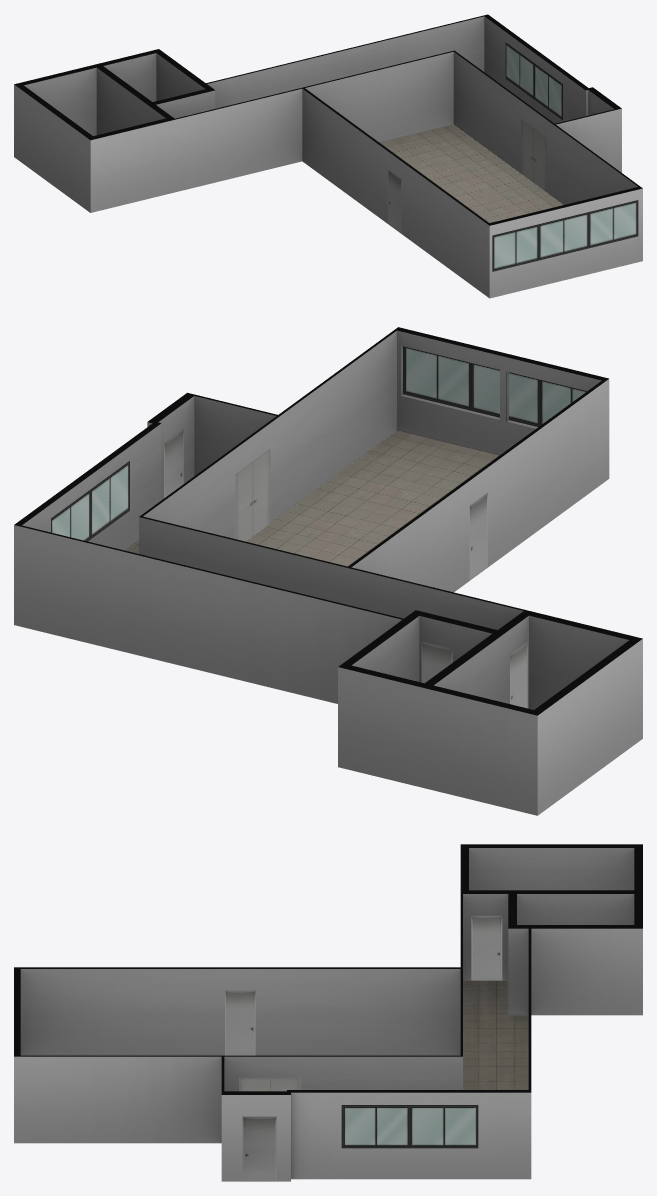
The model's file is Building.glb.
3 renders of one model, top to bottom at view 1: azimuth 30°, elevation 25°; view 2: azimuth 150°, elevation 25°; view 3: azimuth 270°, elevation 25°, orthographic. The views are drawn at different scales.
Parts seen in each view (by area): view 1: 2F_commerce_01, 2F_commerce_01_FL; view 2: 2F_commerce_01, 2F_commerce_01_FL; view 3: 2F_commerce_01, 2F_commerce_01_FL.
Boxes of the visible parts, box(x1,y1,x2,y2) form: 2F_commerce_01: box(14, 14, 642, 298); 2F_commerce_01_FL: box(380, 124, 563, 222); 2F_commerce_01: box(14, 327, 642, 815); 2F_commerce_01_FL: box(125, 430, 498, 566); 2F_commerce_01: box(14, 844, 642, 1181); 2F_commerce_01_FL: box(463, 980, 528, 1089).
Bounding box in the file's own units: 17.37 × 2.8 × 18.41.
Materials: 2 (2 with a texture image).
